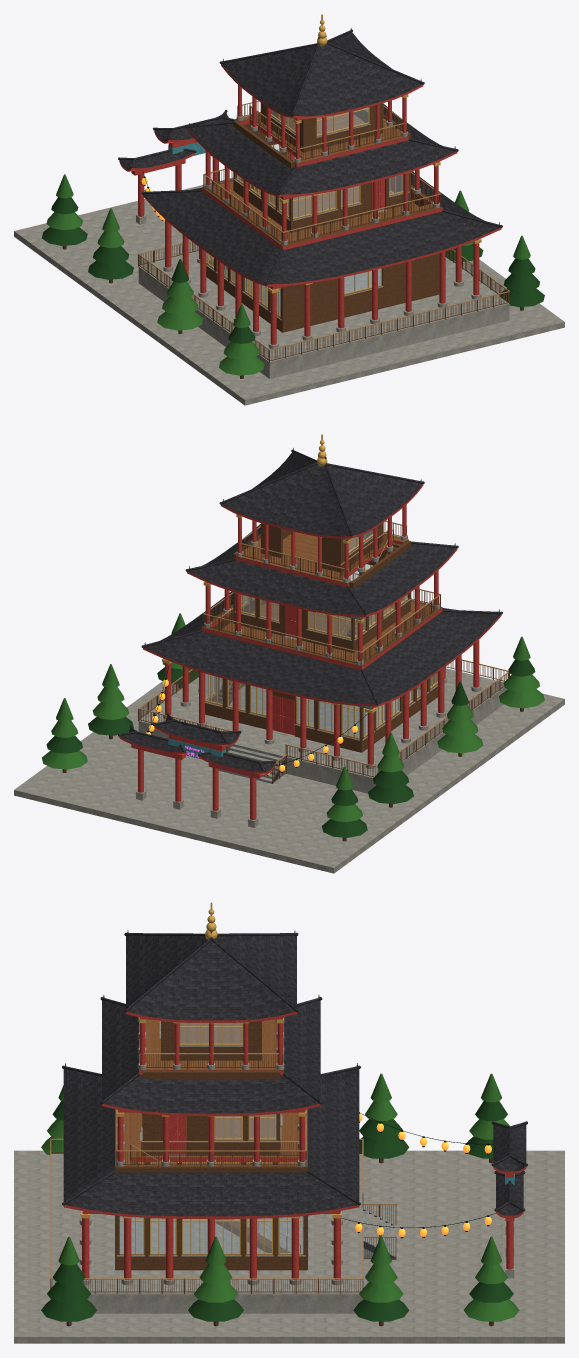
Rendered from b_temple_pagoda.gltf.
3 views of the same model, one above another, from view 1: azimuth 30°, elevation 25°; view 2: azimuth 150°, elevation 25°; view 3: azimuth 270°, elevation 25° (orthographic). The views are drawn at different scales.
Visible parts, largest first — view 1: S_temple_pagoda; view 2: S_temple_pagoda; view 3: S_temple_pagoda.
Boxes of the visible parts, x1=… form: S_temple_pagoda: x1=14, y1=14, x2=564, y2=405; S_temple_pagoda: x1=14, y1=434, x2=564, y2=873; S_temple_pagoda: x1=14, y1=902, x2=564, y2=1343.
Size of the model in its own units: 24 by 20.88 by 30.
Materials: 18 (10 with a texture image).
